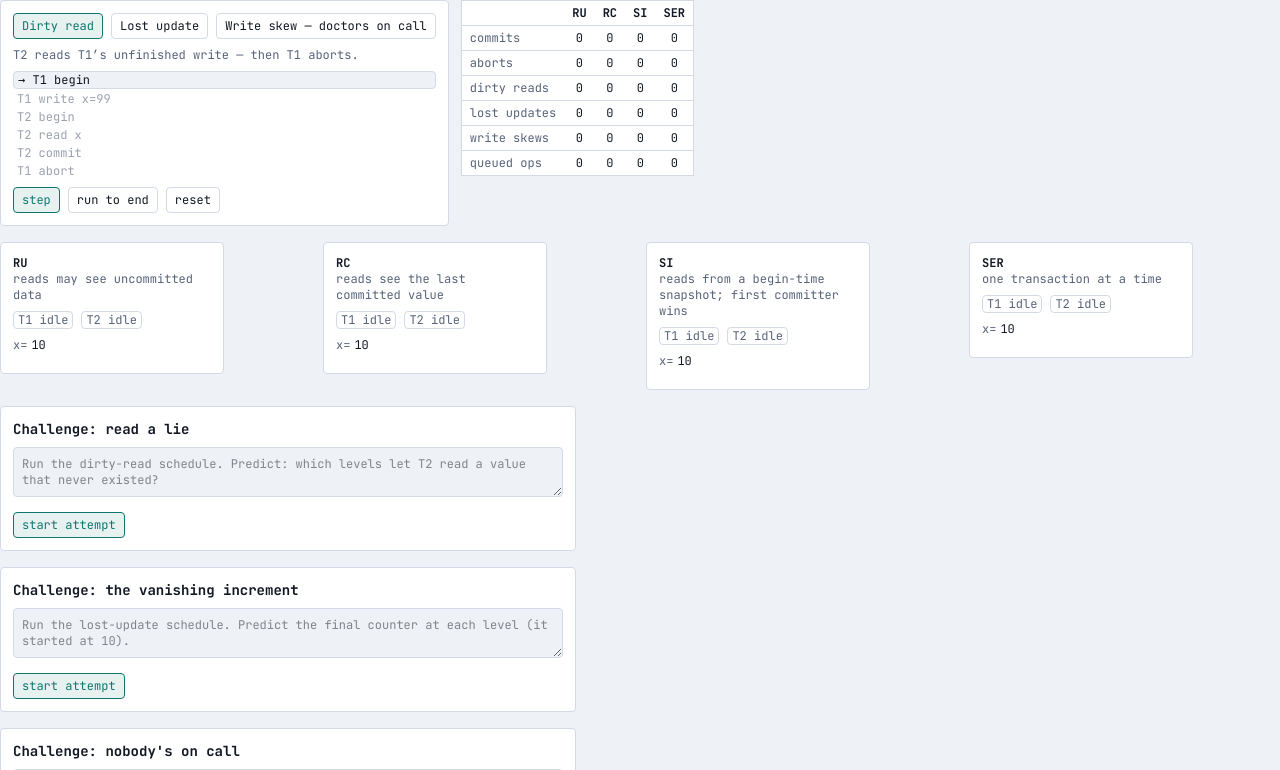
Test: switching preset resets the cursor and the panels
Step 1. Click the button "run to end" → coordinates (113, 200), box x1=68 y1=187 x2=158 y2=213
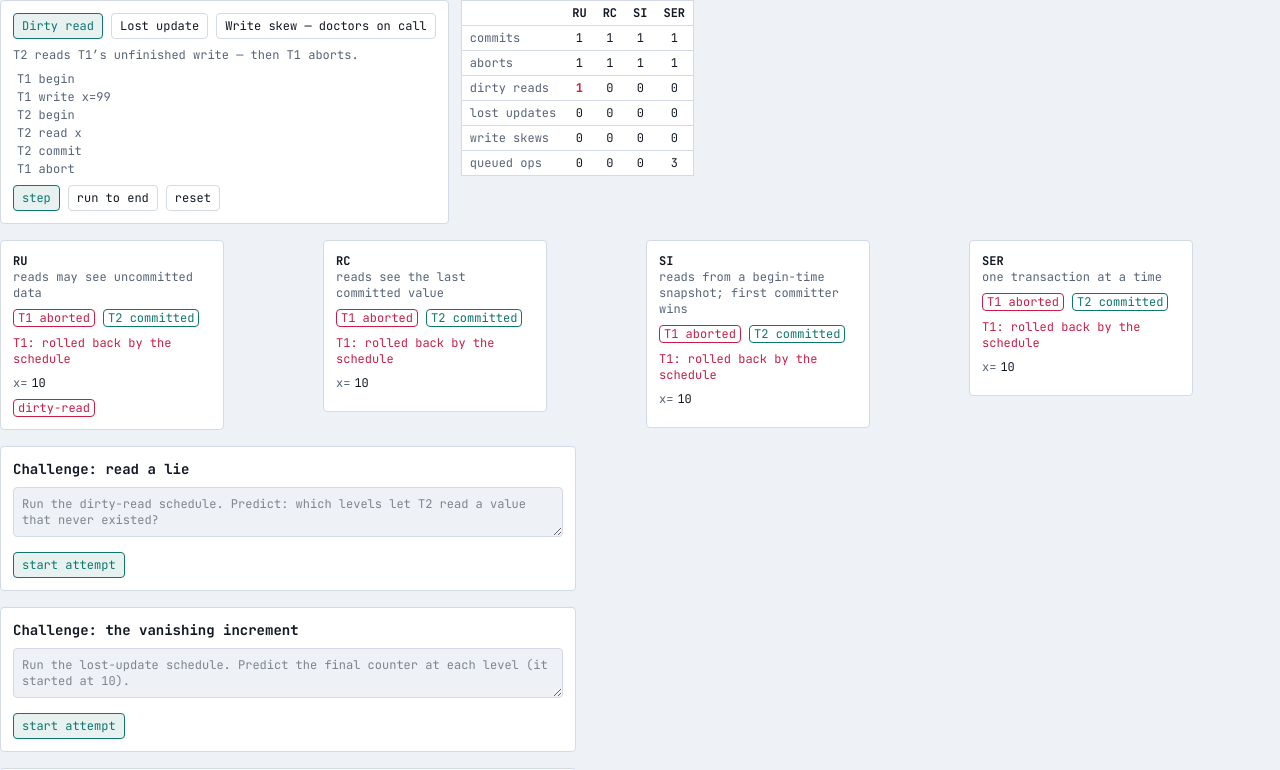
Step 2. Click the button "Write skew — doctors on call" → coordinates (326, 26), box x1=216 y1=13 x2=436 y2=39
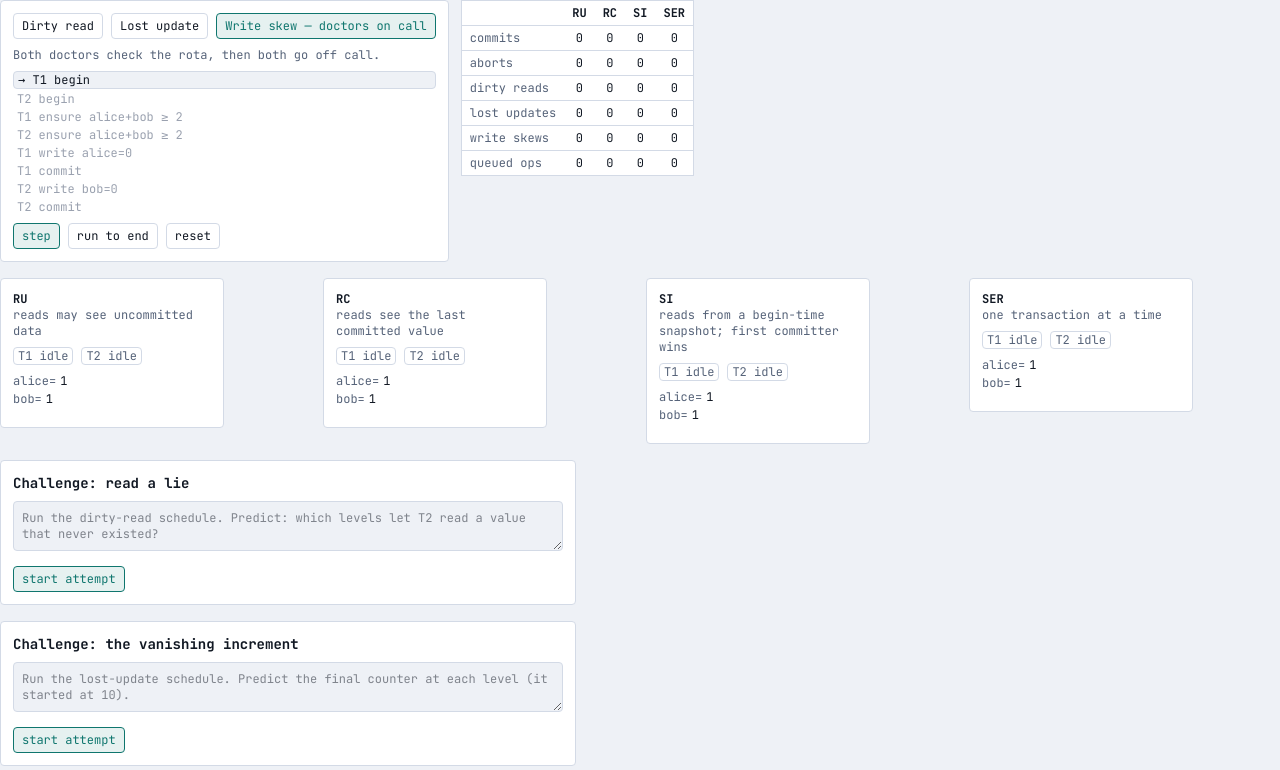
Expected: the number of list items is 8
